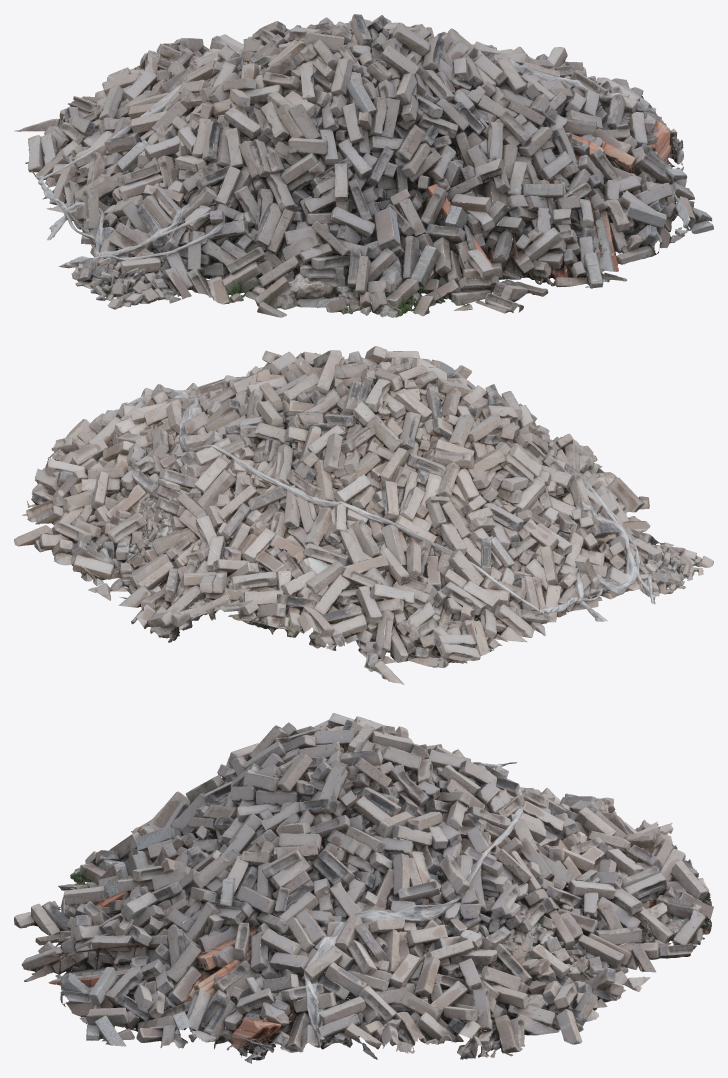
Rendered from sf-pavement-floor-tiles-pile-7e0e42.glb.
3 renders of one model, top to bottom at view 1: azimuth 30°, elevation 25°; view 2: azimuth 150°, elevation 25°; view 3: azimuth 270°, elevation 25°, orthographic. The views are drawn at different scales.
Parts seen in each view (by area): view 1: Model_material0_0, Model_material3_0, Model_material1_0, Model_material2_0; view 2: Model_material0_0, Model_material2_0, Model_material3_0, Model_material1_0; view 3: Model_material2_0, Model_material1_0, Model_material3_0, Model_material0_0.
Boxes of the visible parts, <box> form: Model_material0_0: <box>26,15,713,317</box>; Model_material3_0: <box>14,14,707,317</box>; Model_material1_0: <box>25,15,712,317</box>; Model_material2_0: <box>25,15,711,317</box>; Model_material0_0: <box>33,351,693,671</box>; Model_material2_0: <box>31,346,703,682</box>; Model_material3_0: <box>14,348,694,684</box>; Model_material1_0: <box>18,346,713,671</box>; Model_material2_0: <box>31,713,710,1058</box>; Model_material1_0: <box>19,719,711,1059</box>; Model_material3_0: <box>26,720,710,1063</box>; Model_material0_0: <box>14,716,713,1059</box>.
Bounding box in the file's own units: 15.87 × 4.42 × 15.37.
Materials: 4 (4 with a texture image).
